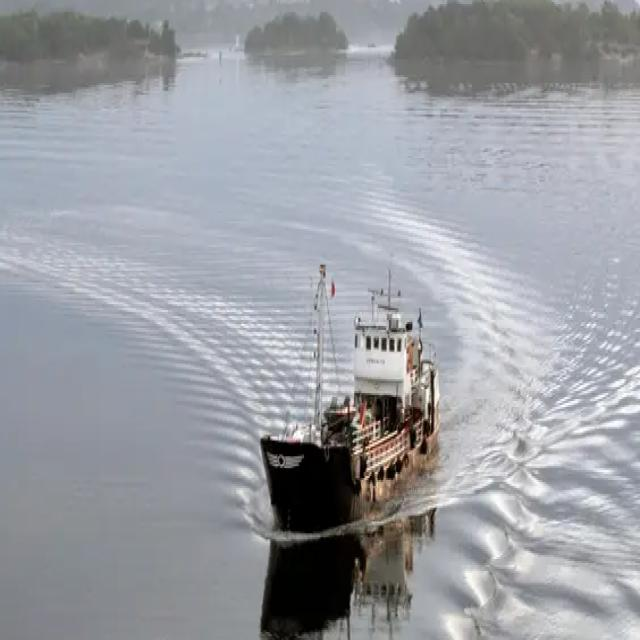fishing boat: (262, 260, 443, 518)
